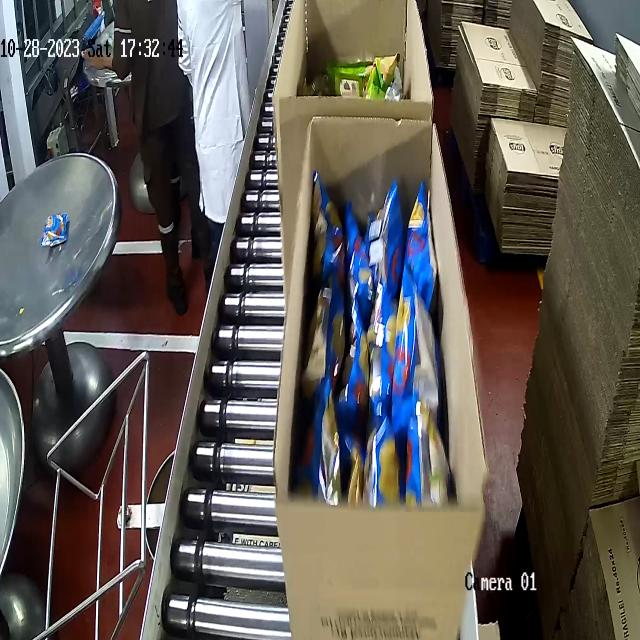PAPRIKA: (301, 111, 457, 508)
